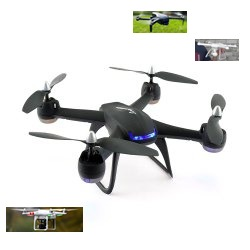drone: (20, 64, 227, 196), (6, 207, 83, 232), (133, 11, 187, 33), (195, 39, 239, 61)
